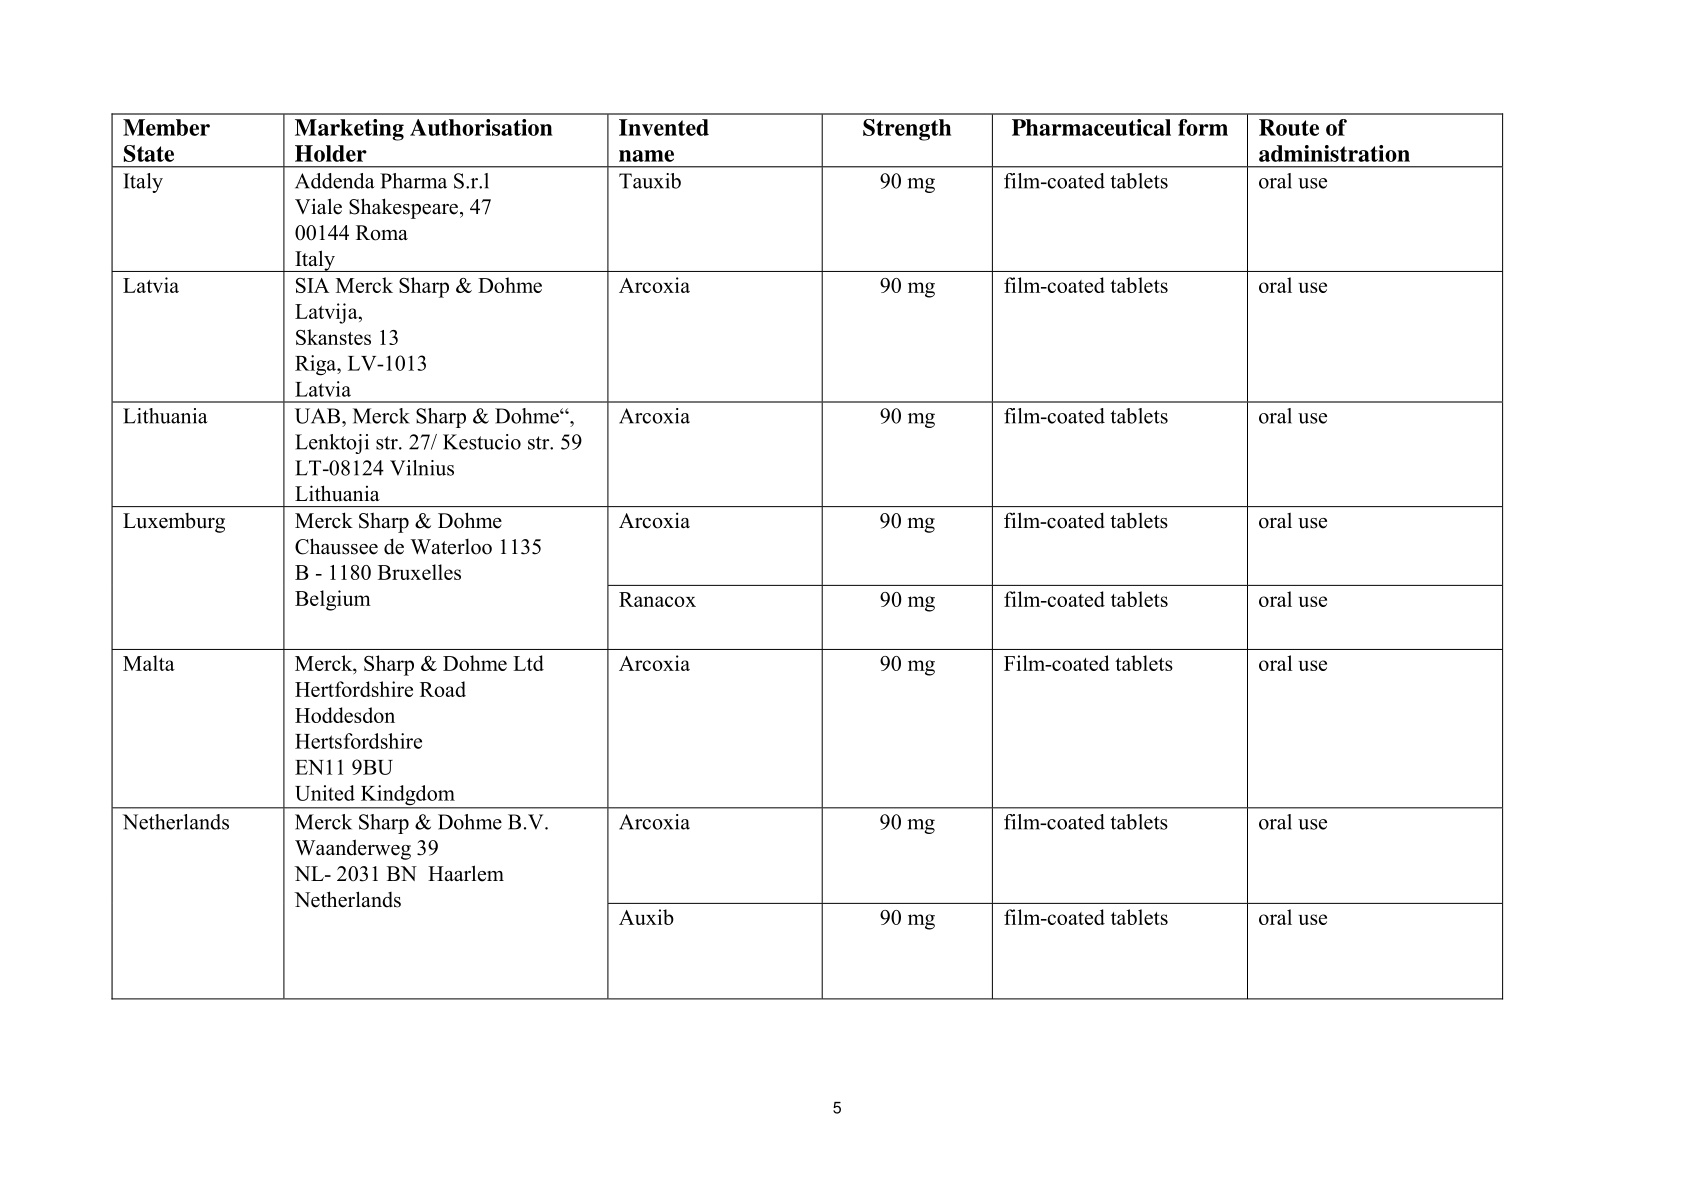full_lined: (109, 112, 1504, 1001)
